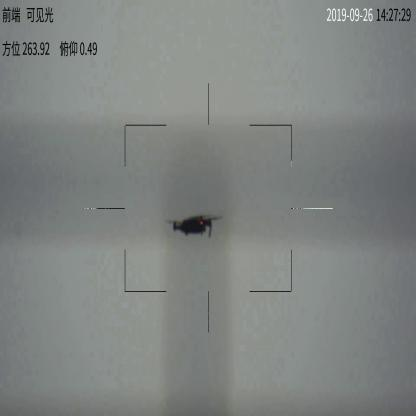uav: (166, 213, 218, 238)
